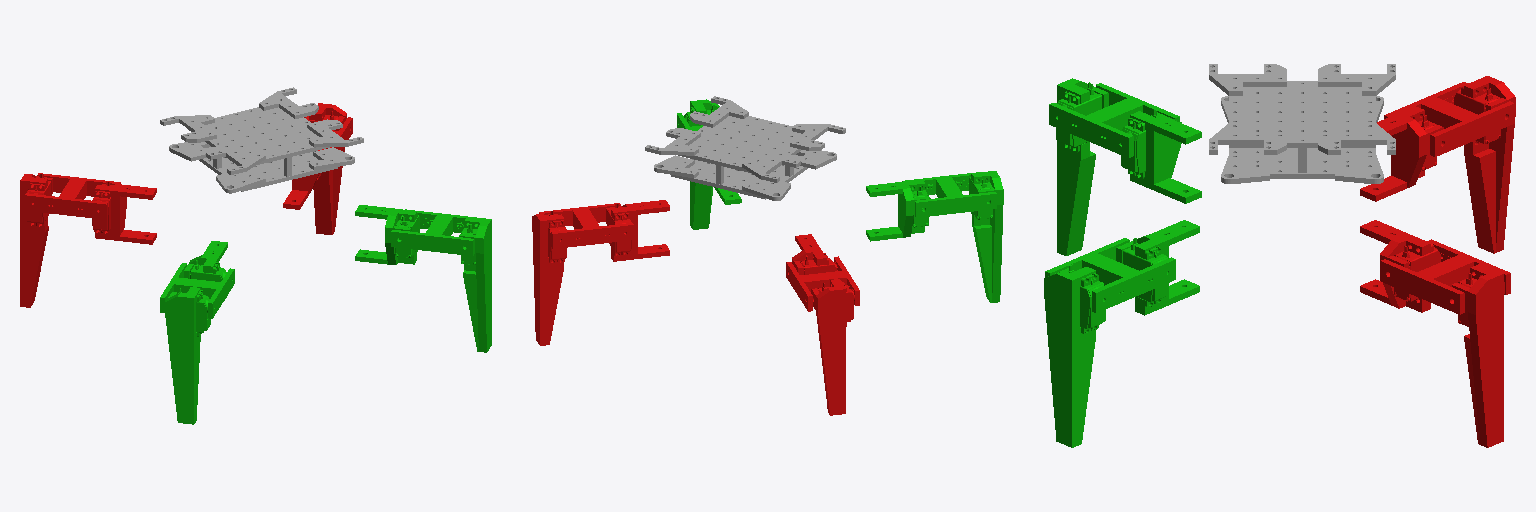
robot.urdf — spiderbot:
<?xml version="1.0" ?>
<!-- =================================================================================== -->
<!-- |    This document was autogenerated by xacro from spidy.xacro                    | -->
<!-- |    EDITING THIS FILE BY HAND IS NOT RECOMMENDED                                 | -->
<!-- =================================================================================== -->
<robot name="spiderbot">
  <!-- Added by ChatGPT: leg color materials -->
  <material name="front_green">
    <color rgba="0.1 0.8 0.1 1.0"/>
  </material>
  <material name="rear_red">
    <color rgba="0.9 0.1 0.1 1.0"/>
  </material>
  <!-- ============================================ -->
  <!-- MATERIALS -->
  <!-- ============================================ -->
  <material name="silver">
    <color rgba="0.700 0.700 0.700 1.000"/>
  </material>
  <material name="black">
    <color rgba="0.2 0.2 0.2 1.0"/>
  </material>
  <!-- ============================================ -->
  <!-- BASE LINK -->
  <!-- ============================================ -->
  <link name="base_link">
    <inertial>
      <origin rpy="0 0 0" xyz="-0.019978371341620418 -0.020000000835769374 -0.10495599955384616"/>
      <mass value="4.731408299822953"/>
      <inertia ixx="0.018448" ixy="7e-06" ixz="2e-06" iyy="0.023393" iyz="0.0" izz="0.038341"/>
    </inertial>
    <visual>
      <origin rpy="0 0 0" xyz="0 0 0"/>
      <geometry>
        <mesh filename="package://spiderbot_description/meshes/base_link.stl" scale="0.001 0.001 0.001"/>
      </geometry>
      <material name="silver"/>
    </visual>
    <collision>
      <origin rpy="0 0 0" xyz="0 0 0"/>
      <geometry>
        <mesh filename="package://spiderbot_description/meshes/base_link.stl" scale="0.001 0.001 0.001"/>
      </geometry>
    </collision>
  </link>
  <!-- ============================================ -->
  <!-- FRONT LEFT LEG -->
  <!-- ============================================ -->
  <link name="fl_coxa_link">
    <inertial>
      <origin rpy="0 0 0" xyz="0.028135954876008673 -0.029329745571449628 -0.028119170695013032"/>
      <mass value="0.542887385601251"/>
      <inertia ixx="0.000264" ixy="3e-05" ixz="1e-06" iyy="0.000279" iyz="1e-05" izz="0.00019"/>
    </inertial>
    <visual>
      <origin rpy="0 0 0" xyz="-0.0802 0.1049 0.0717"/>
      <geometry>
        <mesh filename="package://spiderbot_description/meshes/coxa_FL_1.stl" scale="0.001 0.001 0.001"/>
      </geometry>
      <material name="front_green"/>
    </visual>
    <collision>
      <origin rpy="0 0 0" xyz="-0.0802 0.1049 0.0717"/>
      <geometry>
        <mesh filename="package://spiderbot_description/meshes/coxa_FL_1.stl" scale="0.001 0.001 0.001"/>
      </geometry>
    </collision>
  </link>
  <link name="fl_femur_link">
    <inertial>
      <origin rpy="0 0 0" xyz="0.006997567200805632 -0.04957052602340402 -7.856501144098971e-10"/>
      <mass value="0.3492287921483335"/>
      <inertia ixx="0.000188" ixy="-1.9e-05" ixz="0.0" iyy="0.000188" iyz="-0.0" izz="0.000352"/>
    </inertial>
    <visual>
      <origin rpy="0 0 0" xyz="-0.135496 0.120881 0.0888"/>
      <geometry>
        <mesh filename="package://spiderbot_description/meshes/femur_FL_1.stl" scale="0.001 0.001 0.001"/>
      </geometry>
      <material name="front_green"/>
    </visual>
    <collision>
      <origin rpy="0 0 0" xyz="-0.135496 0.120881 0.0888"/>
      <geometry>
        <mesh filename="package://spiderbot_description/meshes/femur_FL_1.stl" scale="0.001 0.001 0.001"/>
      </geometry>
    </collision>
  </link>
  <link name="fl_tibia_link">
    <inertial>
      <origin rpy="0 0 0" xyz="-0.015570071022172616 -0.025956642235597044 -0.04429277038724115"/>
      <mass value="0.8577979430954783"/>
      <inertia ixx="0.0017" ixy="-1.3e-05" ixz="7.6e-05" iyy="0.001667" iyz="-6.5e-05" izz="0.000147"/>
    </inertial>
    <visual>
      <origin rpy="0 0 0" xyz="-0.192064 0.177449 0.0888"/>
      <geometry>
        <mesh filename="package://spiderbot_description/meshes/tibia_FL_1.stl" scale="0.001 0.001 0.001"/>
      </geometry>
      <material name="front_green"/>
    </visual>
    <collision>
      <origin rpy="0 0 0" xyz="-0.192064 0.177449 0.0888"/>
      <geometry>
        <mesh filename="package://spiderbot_description/meshes/tibia_FL_1.stl" scale="0.001 0.001 0.001"/>
      </geometry>
    </collision>
  </link>
  <!-- ============================================ -->
  <!-- FRONT RIGHT LEG -->
  <!-- ============================================ -->
  <link name="fr_coxa_link">
    <inertial>
      <origin rpy="0 0 0" xyz="-0.029329745571448573 -0.028135954876009714 -0.028119170695013046"/>
      <mass value="0.542887385601251"/>
      <inertia ixx="0.000279" ixy="-3e-05" ixz="1e-05" iyy="0.000264" iyz="-1e-06" izz="0.00019"/>
    </inertial>
    <visual>
      <origin rpy="0 0 0" xyz="0.1202 0.10365 0.07235"/>
      <geometry>
        <mesh filename="package://spiderbot_description/meshes/coxa_FR_1.stl" scale="0.001 0.001 0.001"/>
      </geometry>
      <material name="front_green"/>
    </visual>
    <collision>
      <origin rpy="0 0 0" xyz="0.1202 0.10365 0.07235"/>
      <geometry>
        <mesh filename="package://spiderbot_description/meshes/coxa_FR_1.stl" scale="0.001 0.001 0.001"/>
      </geometry>
    </collision>
  </link>
  <link name="fr_femur_link">
    <inertial>
      <origin rpy="0 0 0" xyz="-0.048509678665941525 -0.008058040186904758 7.856502393099873e-10"/>
      <mass value="0.3492287921483335"/>
      <inertia ixx="0.000188" ixy="1.9e-05" ixz="-0.0" iyy="0.000188" iyz="-0.0" izz="0.000352"/>
    </inertial>
    <visual>
      <origin rpy="0 0 0" xyz="0.136181 0.158946 0.08945"/>
      <geometry>
        <mesh filename="package://spiderbot_description/meshes/femur_FR_1.stl" scale="0.001 0.001 0.001"/>
      </geometry>
      <material name="front_green"/>
    </visual>
    <collision>
      <origin rpy="0 0 0" xyz="0.136181 0.158946 0.08945"/>
      <geometry>
        <mesh filename="package://spiderbot_description/meshes/femur_FR_1.stl" scale="0.001 0.001 0.001"/>
      </geometry>
    </collision>
  </link>
  <link name="fr_tibia_link">
    <inertial>
      <origin rpy="0 0 0" xyz="-0.025956982063816164 0.015570410850391847 -0.04429277038724089"/>
      <mass value="0.8577979430954783"/>
      <inertia ixx="0.001667" ixy="1.3e-05" ixz="-6.5e-05" iyy="0.0017" iyz="-7.6e-05" izz="0.000147"/>
    </inertial>
    <visual>
      <origin rpy="0 0 0" xyz="0.191688 0.216575 0.08945"/>
      <geometry>
        <mesh filename="package://spiderbot_description/meshes/tibia_FR_1.stl" scale="0.001 0.001 0.001"/>
      </geometry>
      <material name="front_green"/>
    </visual>
    <collision>
      <origin rpy="0 0 0" xyz="0.191688 0.216575 0.08945"/>
      <geometry>
        <mesh filename="package://spiderbot_description/meshes/tibia_FR_1.stl" scale="0.001 0.001 0.001"/>
      </geometry>
    </collision>
  </link>
  <!-- ============================================ -->
  <!-- REAR LEFT LEG -->
  <!-- ============================================ -->
  <link name="rl_coxa_link">
    <inertial>
      <origin rpy="0 0 0" xyz="0.029329745571448476 0.028135954876009367 -0.028119170695013004"/>
      <mass value="0.542887385601251"/>
      <inertia ixx="0.000279" ixy="-3e-05" ixz="-1e-05" iyy="0.000264" iyz="1e-06" izz="0.00019"/>
    </inertial>
    <visual>
      <origin rpy="0 0 0" xyz="-0.0802 -0.0649 0.0717"/>
      <geometry>
        <mesh filename="package://spiderbot_description/meshes/coxa_RL_1.stl" scale="0.001 0.001 0.001"/>
      </geometry>
      <material name="rear_red"/>
    </visual>
    <collision>
      <origin rpy="0 0 0" xyz="-0.0802 -0.0649 0.0717"/>
      <geometry>
        <mesh filename="package://spiderbot_description/meshes/coxa_RL_1.stl" scale="0.001 0.001 0.001"/>
      </geometry>
    </collision>
  </link>
  <link name="rl_femur_link">
    <inertial>
      <origin rpy="0 0 0" xyz="0.049570338837721176 0.006997380015124621 7.856499478764434e-10"/>
      <mass value="0.3492287921483335"/>
      <inertia ixx="0.000188" ixy="1.9e-05" ixz="0.0" iyy="0.000188" iyz="0.0" izz="0.000352"/>
    </inertial>
    <visual>
      <origin rpy="0 0 0" xyz="-0.096181 -0.120196 0.0888"/>
      <geometry>
        <mesh filename="package://spiderbot_description/meshes/femur_RL_1.stl" scale="0.001 0.001 0.001"/>
      </geometry>
      <material name="rear_red"/>
    </visual>
    <collision>
      <origin rpy="0 0 0" xyz="-0.096181 -0.120196 0.0888"/>
      <geometry>
        <mesh filename="package://spiderbot_description/meshes/femur_RL_1.stl" scale="0.001 0.001 0.001"/>
      </geometry>
    </collision>
  </link>
  <link name="rl_tibia_link">
    <inertial>
      <origin rpy="0 0 0" xyz="0.025956642235595767 -0.01557007102217195 -0.04429277038724118"/>
      <mass value="0.8577979430954783"/>
      <inertia ixx="0.001667" ixy="1.3e-05" ixz="6.5e-05" iyy="0.0017" iyz="7.6e-05" izz="0.000147"/>
    </inertial>
    <visual>
      <origin rpy="0 0 0" xyz="-0.152749 -0.176764 0.0888"/>
      <geometry>
        <mesh filename="package://spiderbot_description/meshes/tibia_RL_1.stl" scale="0.001 0.001 0.001"/>
      </geometry>
      <material name="rear_red"/>
    </visual>
    <collision>
      <origin rpy="0 0 0" xyz="-0.152749 -0.176764 0.0888"/>
      <geometry>
        <mesh filename="package://spiderbot_description/meshes/tibia_RL_1.stl" scale="0.001 0.001 0.001"/>
      </geometry>
    </collision>
  </link>
  <!-- ============================================ -->
  <!-- REAR RIGHT LEG -->
  <!-- ============================================ -->
  <link name="rr_coxa_link">
    <inertial>
      <origin rpy="0 0 0" xyz="-0.028135954876008396 0.029329745571449795 -0.02661917069501303"/>
      <mass value="0.542887385601251"/>
      <inertia ixx="0.000264" ixy="3e-05" ixz="-1e-06" iyy="0.000279" iyz="-1e-05" izz="0.00019"/>
    </inertial>
    <visual>
      <origin rpy="0 0 0" xyz="0.1202 -0.0649 0.0717"/>
      <geometry>
        <mesh filename="package://spiderbot_description/meshes/coxa_RR_1.stl" scale="0.001 0.001 0.001"/>
      </geometry>
      <material name="rear_red"/>
    </visual>
    <collision>
      <origin rpy="0 0 0" xyz="0.1202 -0.0649 0.0717"/>
      <geometry>
        <mesh filename="package://spiderbot_description/meshes/coxa_RR_1.stl" scale="0.001 0.001 0.001"/>
      </geometry>
    </collision>
  </link>
  <link name="rr_femur_link">
    <inertial>
      <origin rpy="0 0 0" xyz="-0.006997380015123622 0.04957033883772251 7.856499617542312e-10"/>
      <mass value="0.3492287921483335"/>
      <inertia ixx="0.000188" ixy="-1.9e-05" ixz="-0.0" iyy="0.000188" iyz="0.0" izz="0.000352"/>
    </inertial>
    <visual>
      <origin rpy="0 0 0" xyz="0.175496 -0.080881 0.0873"/>
      <geometry>
        <mesh filename="package://spiderbot_description/meshes/femur_RR_1.stl" scale="0.001 0.001 0.001"/>
      </geometry>
      <material name="rear_red"/>
    </visual>
    <collision>
      <origin rpy="0 0 0" xyz="0.175496 -0.080881 0.0873"/>
      <geometry>
        <mesh filename="package://spiderbot_description/meshes/femur_RR_1.stl" scale="0.001 0.001 0.001"/>
      </geometry>
    </collision>
  </link>
  <link name="rr_tibia_link">
    <inertial>
      <origin rpy="0 0 0" xyz="0.015570071022172893 0.025956642235597266 -0.044292770387241207"/>
      <mass value="0.8577979430954783"/>
      <inertia ixx="0.0017" ixy="-1.3e-05" ixz="-7.6e-05" iyy="0.001667" iyz="6.5e-05" izz="0.000147"/>
    </inertial>
    <visual>
      <origin rpy="0 0 0" xyz="0.232064 -0.137449 0.0873"/>
      <geometry>
        <mesh filename="package://spiderbot_description/meshes/tibia_RR_1.stl" scale="0.001 0.001 0.001"/>
      </geometry>
      <material name="rear_red"/>
    </visual>
    <collision>
      <origin rpy="0 0 0" xyz="0.232064 -0.137449 0.0873"/>
      <geometry>
        <mesh filename="package://spiderbot_description/meshes/tibia_RR_1.stl" scale="0.001 0.001 0.001"/>
      </geometry>
    </collision>
  </link>
  <!-- ============================================ -->
  <!-- JOINTS - FRONT LEFT LEG -->
  <!-- ============================================ -->
  <joint name="fl_coxa_joint" type="revolute">
    <origin rpy="0 0 0" xyz="0.0802 -0.1049 -0.0717"/>
    <parent link="base_link"/>
    <child link="fl_coxa_link"/>
    <axis xyz="-0.0 -0.0 1.0"/>
    <limit effort="100" lower="-1.570796" upper="1.570796" velocity="10"/>
    <dynamics damping="0.1" friction="0.1"/>
  </joint>
  <joint name="fl_femur_joint" type="revolute">
    <origin rpy="0 0 0" xyz="0.055296 -0.015981 -0.0171"/>
    <parent link="fl_coxa_link"/>
    <child link="fl_femur_link"/>
    <axis xyz="0.707107 0.707107 -0.0"/>
    <limit effort="100" lower="-1.570796" upper="1.570796" velocity="10"/>
    <dynamics damping="0.1" friction="0.1"/>
  </joint>
  <joint name="fl_tibia_joint" type="revolute">
    <origin rpy="0 0 0" xyz="0.056568 -0.056568 0.0"/>
    <parent link="fl_femur_link"/>
    <child link="fl_tibia_link"/>
    <axis xyz="0.707107 0.707107 0.0"/>
    <limit effort="100" lower="-1.570796" upper="1.570796" velocity="10"/>
    <dynamics damping="0.1" friction="0.1"/>
  </joint>
  <!-- ============================================ -->
  <!-- JOINTS - FRONT RIGHT LEG -->
  <!-- ============================================ -->
  <joint name="fr_coxa_joint" type="revolute">
    <origin rpy="0 0 0" xyz="-0.1202 -0.10365 -0.07235"/>
    <parent link="base_link"/>
    <child link="fr_coxa_link"/>
    <axis xyz="0.0 0.0 1.0"/>
    <limit effort="100" lower="-1.570796" upper="1.570796" velocity="10"/>
    <dynamics damping="0.1" friction="0.1"/>
  </joint>
  <joint name="fr_femur_joint" type="revolute">
    <origin rpy="0 0 0" xyz="-0.015981 -0.055296 -0.0171"/>
    <parent link="fr_coxa_link"/>
    <child link="fr_femur_link"/>
    <axis xyz="0.707107 -0.707107 -0.0"/>
    <limit effort="100" lower="-1.570796" upper="1.570796" velocity="10"/>
    <dynamics damping="0.1" friction="0.1"/>
  </joint>
  <joint name="fr_tibia_joint" type="revolute">
    <origin rpy="0 0 0" xyz="-0.055507 -0.057629 0.0"/>
    <parent link="fr_femur_link"/>
    <child link="fr_tibia_link"/>
    <axis xyz="0.707107 -0.707107 -0.0"/>
    <limit effort="100" lower="-1.570796" upper="1.570796" velocity="10"/>
    <dynamics damping="0.1" friction="0.1"/>
  </joint>
  <!-- ============================================ -->
  <!-- JOINTS - REAR LEFT LEG -->
  <!-- ============================================ -->
  <joint name="rl_coxa_joint" type="revolute">
    <origin rpy="0 0 0" xyz="0.0802 0.0649 -0.0717"/>
    <parent link="base_link"/>
    <child link="rl_coxa_link"/>
    <axis xyz="0.0 -0.0 1.0"/>
    <limit effort="100" lower="-1.570796" upper="1.570796" velocity="10"/>
    <dynamics damping="0.1" friction="0.1"/>
  </joint>
  <joint name="rl_femur_joint" type="revolute">
    <origin rpy="0 0 0" xyz="0.015981 0.055296 -0.0171"/>
    <parent link="rl_coxa_link"/>
    <child link="rl_femur_link"/>
    <axis xyz="-0.707107 0.707107 0.0"/>
    <limit effort="100" lower="-1.570796" upper="1.570796" velocity="10"/>
    <dynamics damping="0.1" friction="0.1"/>
  </joint>
  <joint name="rl_tibia_joint" type="revolute">
    <origin rpy="0 0 0" xyz="0.056568 0.056568 0.0"/>
    <parent link="rl_femur_link"/>
    <child link="rl_tibia_link"/>
    <axis xyz="-0.707107 0.707107 0.0"/>
    <limit effort="100" lower="-1.570796" upper="1.570796" velocity="10"/>
    <dynamics damping="0.1" friction="0.1"/>
  </joint>
  <!-- ============================================ -->
  <!-- JOINTS - REAR RIGHT LEG -->
  <!-- ============================================ -->
  <joint name="rr_coxa_joint" type="revolute">
    <origin rpy="0 0 0" xyz="-0.1202 0.0649 -0.0717"/>
    <parent link="base_link"/>
    <child link="rr_coxa_link"/>
    <axis xyz="0.0 0.0 1.0"/>
    <limit effort="100" lower="-1.570796" upper="1.570796" velocity="10"/>
    <dynamics damping="0.1" friction="0.1"/>
  </joint>
  <joint name="rr_femur_joint" type="revolute">
    <origin rpy="0 0 0" xyz="-0.055296 0.015981 -0.0156"/>
    <parent link="rr_coxa_link"/>
    <child link="rr_femur_link"/>
    <axis xyz="-0.707107 -0.707107 0.0"/>
    <limit effort="100" lower="-1.570796" upper="1.570796" velocity="10"/>
    <dynamics damping="0.1" friction="0.1"/>
  </joint>
  <joint name="rr_tibia_joint" type="revolute">
    <origin rpy="0 0 0" xyz="-0.056568 0.056568 0.0"/>
    <parent link="rr_femur_link"/>
    <child link="rr_tibia_link"/>
    <axis xyz="-0.707107 -0.707107 -0.0"/>
    <limit effort="100" lower="-1.570796" upper="1.570796" velocity="10"/>
    <dynamics damping="0.1" friction="0.1"/>
  </joint>
  <!-- ============================================ -->
  <!-- ROS2_CONTROL CONFIGURATION -->
  <!-- This replaces the old transmission system -->
  <!-- ============================================ -->
  <ros2_control name="SpiderHW" type="system">
    <hardware>
      <!-- Gazebo (Ignition/Fortress/Garden) ros2_control backend -->
      <plugin>gz_ros2_control/GazeboSimSystem</plugin>
    </hardware>
    <!-- Front Left Leg -->
    <joint name="fl_coxa_joint">
      <command_interface name="position"/>
      <state_interface name="position"/>
      <state_interface name="velocity"/>
      <state_interface name="effort"/>
    </joint>
    <joint name="fl_femur_joint">
      <command_interface name="position"/>
      <state_interface name="position"/>
      <state_interface name="velocity"/>
      <state_interface name="effort"/>
    </joint>
    <joint name="fl_tibia_joint">
      <command_interface name="position"/>
      <state_interface name="position"/>
      <state_interface name="velocity"/>
      <state_interface name="effort"/>
    </joint>
    <!-- Front Right Leg -->
    <joint name="fr_coxa_joint">
      <command_interface name="position"/>
      <state_interface name="position"/>
      <state_interface name="velocity"/>
      <state_interface name="effort"/>
    </joint>
    <joint name="fr_femur_joint">
      <command_interface name="position"/>
      <state_interface name="position"/>
      <state_interface name="velocity"/>
      <state_interface name="effort"/>
    </joint>
    <joint name="fr_tibia_joint">
      <command_interface name="position"/>
      <state_interface name="position"/>
      <state_interface name="velocity"/>
      <state_interface name="effort"/>
    </joint>
    <!-- Rear Left Leg -->
    <joint name="rl_coxa_joint">
      <command_interface name="position"/>
      <state_interface name="position"/>
      <state_interface name="velocity"/>
      <state_interface name="effort"/>
    </joint>
    <joint name="rl_femur_joint">
      <command_interface name="position"/>
      <state_interface name="position"/>
      <state_interface name="velocity"/>
      <state_interface name="effort"/>
    </joint>
    <joint name="rl_tibia_joint">
      <command_interface name="position"/>
      <state_interface name="position"/>
      <state_interface name="velocity"/>
      <state_interface name="effort"/>
    </joint>
    <!-- Rear Right Leg -->
    <joint name="rr_coxa_joint">
      <command_interface name="position"/>
      <state_interface name="position"/>
      <state_interface name="velocity"/>
      <state_interface name="effort"/>
    </joint>
    <joint name="rr_femur_joint">
      <command_interface name="position"/>
      <state_interface name="position"/>
      <state_interface name="velocity"/>
      <state_interface name="effort"/>
    </joint>
    <joint name="rr_tibia_joint">
      <command_interface name="position"/>
      <state_interface name="position"/>
      <state_interface name="velocity"/>
      <state_interface name="effort"/>
    </joint>
  </ros2_control>
  <!-- ============================================ -->
  <!-- GAZEBO ROS2_CONTROL PLUGIN -->
  <!-- ============================================ -->
  <gazebo>
    <plugin filename="gz_ros2_control-system" name="gz_ros2_control::GazeboSimROS2ControlPlugin">
      <parameters>[local-path]/spiderbot_ws/install/spiderbot_description/share/spiderbot_description/config/controllers.yaml</parameters>
      <robot_param>robot_description</robot_param>
      <robot_param_node>robot_state_publisher</robot_param_node>
      <controller_manager_name>controller_manager</controller_manager_name>
    </plugin>
  </gazebo>
  <gazebo reference="base_link">
    <material>Gazebo/Silver</material>
    <mu1>0.5</mu1>
    <mu2>0.5</mu2>
    <selfCollide>false</selfCollide>
    <gravity>true</gravity>
  </gazebo>
  <gazebo reference="fl_coxa_link">
    <material>Gazebo/Silver</material>
    <mu1>0.6</mu1>
    <mu2>0.6</mu2>
    <selfCollide>false</selfCollide>
  </gazebo>
  <gazebo reference="fl_femur_link">
    <material>Gazebo/Silver</material>
    <mu1>0.6</mu1>
    <mu2>0.6</mu2>
    <selfCollide>false</selfCollide>
  </gazebo>
  <gazebo reference="fl_tibia_link">
    <material>Gazebo/Silver</material>
    <mu1>0.6</mu1>
    <mu2>0.6</mu2>
    <selfCollide>false</selfCollide>
  </gazebo>
  <gazebo reference="fr_coxa_link">
    <material>Gazebo/Silver</material>
    <mu1>0.6</mu1>
    <mu2>0.6</mu2>
    <selfCollide>false</selfCollide>
  </gazebo>
  <gazebo reference="fr_femur_link">
    <material>Gazebo/Silver</material>
    <mu1>0.6</mu1>
    <mu2>0.6</mu2>
    <selfCollide>false</selfCollide>
  </gazebo>
  <gazebo reference="fr_tibia_link">
    <material>Gazebo/Silver</material>
    <mu1>0.6</mu1>
    <mu2>0.6</mu2>
    <selfCollide>false</selfCollide>
  </gazebo>
  <gazebo reference="rl_coxa_link">
    <material>Gazebo/Silver</material>
    <mu1>0.6</mu1>
    <mu2>0.6</mu2>
    <selfCollide>false</selfCollide>
  </gazebo>
  <gazebo reference="rl_femur_link">
    <material>Gazebo/Silver</material>
    <mu1>0.6</mu1>
    <mu2>0.6</mu2>
    <selfCollide>false</selfCollide>
  </gazebo>
  <gazebo reference="rl_tibia_link">
    <material>Gazebo/Silver</material>
    <mu1>0.6</mu1>
    <mu2>0.6</mu2>
    <selfCollide>false</selfCollide>
  </gazebo>
  <gazebo reference="rr_coxa_link">
    <material>Gazebo/Silver</material>
    <mu1>0.6</mu1>
    <mu2>0.6</mu2>
    <selfCollide>false</selfCollide>
  </gazebo>
  <gazebo reference="rr_femur_link">
    <material>Gazebo/Silver</material>
    <mu1>0.6</mu1>
    <mu2>0.6</mu2>
    <selfCollide>false</selfCollide>
  </gazebo>
  <gazebo reference="rr_tibia_link">
    <material>Gazebo/Silver</material>
    <mu1>0.6</mu1>
    <mu2>0.6</mu2>
    <selfCollide>false</selfCollide>
  </gazebo>
  <!-- ============================================ -->
  <!-- IMU SENSOR -->
  <!-- ============================================ -->
  <gazebo reference="base_link">
    <sensor name="imu_sensor" type="imu">
      <always_on>true</always_on>
      <update_rate>100</update_rate>
      <topic>imu</topic>
      <gz_frame_id>base_link</gz_frame_id>
    </sensor>
  </gazebo>
</robot>

--- Render facts (derived) ---
3 views of the same robot in one strip: view 1: azimuth 30°, elevation 25°; view 2: azimuth 150°, elevation 25°; view 3: azimuth 270°, elevation 25° (orthographic).
Robot: spiderbot — 13 links, 12 joints (12 revolute); root link base_link; default pose: all joints at 0.
Visible links, largest first — view 1: base_link, fr_tibia_link, fl_tibia_link, rr_tibia_link, rr_femur_link, fl_femur_link, rr_coxa_link, fl_coxa_link, rl_tibia_link, fr_femur_link, fr_coxa_link, rl_coxa_link; view 2: base_link, rr_tibia_link, rl_tibia_link, fr_tibia_link, rl_femur_link, fr_femur_link, fr_coxa_link, rl_coxa_link, rr_femur_link, fl_tibia_link, rr_coxa_link; view 3: base_link, fl_tibia_link, rl_tibia_link, rr_tibia_link, fr_tibia_link, fr_coxa_link, rl_femur_link, rr_coxa_link, fr_femur_link, fl_femur_link, rr_femur_link, fl_coxa_link (+1 smaller).
Boxes of the visible links, x1=… form: base_link: x1=160, y1=87, x2=363, y2=193; fr_tibia_link: x1=165, y1=287, x2=210, y2=424; fl_tibia_link: x1=459, y1=217, x2=491, y2=352; rr_tibia_link: x1=20, y1=174, x2=52, y2=307; rr_femur_link: x1=25, y1=173, x2=120, y2=219; fl_femur_link: x1=391, y1=209, x2=485, y2=255; rr_coxa_link: x1=92, y1=181, x2=156, y2=244; fl_coxa_link: x1=355, y1=205, x2=419, y2=264; rl_tibia_link: x1=305, y1=103, x2=346, y2=234; fr_femur_link: x1=160, y1=263, x2=234, y2=318; fr_coxa_link: x1=184, y1=241, x2=227, y2=300; rl_coxa_link: x1=283, y1=148, x2=326, y2=209; base_link: x1=645, y1=96, x2=845, y2=200; rr_tibia_link: x1=811, y1=279, x2=853, y2=415; rl_tibia_link: x1=532, y1=211, x2=566, y2=345; fr_tibia_link: x1=969, y1=171, x2=1003, y2=302; rl_femur_link: x1=539, y1=203, x2=633, y2=248; fr_femur_link: x1=902, y1=172, x2=996, y2=217; fr_coxa_link: x1=866, y1=179, x2=930, y2=241; rl_coxa_link: x1=606, y1=200, x2=669, y2=261; rr_femur_link: x1=786, y1=256, x2=859, y2=311; fl_tibia_link: x1=684, y1=99, x2=719, y2=229; rr_coxa_link: x1=792, y1=234, x2=836, y2=274; base_link: x1=1209, y1=64, x2=1395, y2=183; fl_tibia_link: x1=1044, y1=264, x2=1105, y2=447; rl_tibia_link: x1=1452, y1=264, x2=1504, y2=447; rr_tibia_link: x1=1454, y1=76, x2=1515, y2=253; fr_tibia_link: x1=1056, y1=78, x2=1108, y2=255; fr_coxa_link: x1=1121, y1=109, x2=1201, y2=203; rl_femur_link: x1=1380, y1=239, x2=1510, y2=314; rr_coxa_link: x1=1360, y1=106, x2=1443, y2=201; fr_femur_link: x1=1049, y1=83, x2=1179, y2=157; fl_femur_link: x1=1045, y1=238, x2=1175, y2=312; rr_femur_link: x1=1384, y1=82, x2=1514, y2=156; fl_coxa_link: x1=1116, y1=220, x2=1199, y2=315.
Bounding box of the posed robot: 0.448 × 0.4184 × 0.2447 m (x, y, z).
Meshes: 13 distinct files referenced, 13 mesh visuals loaded (13 binary STL).